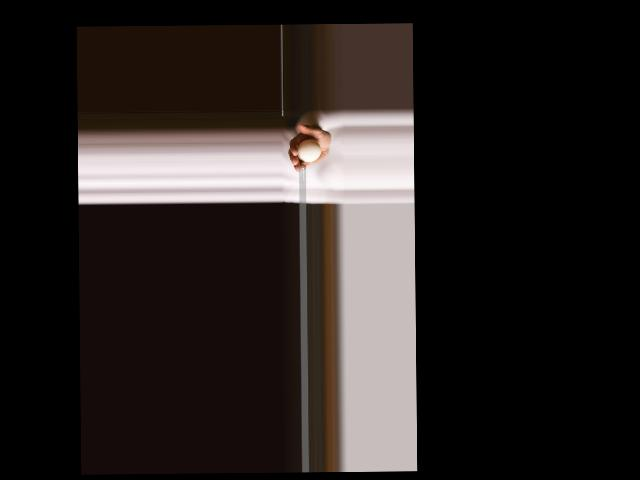egg: (296, 139, 320, 162)
